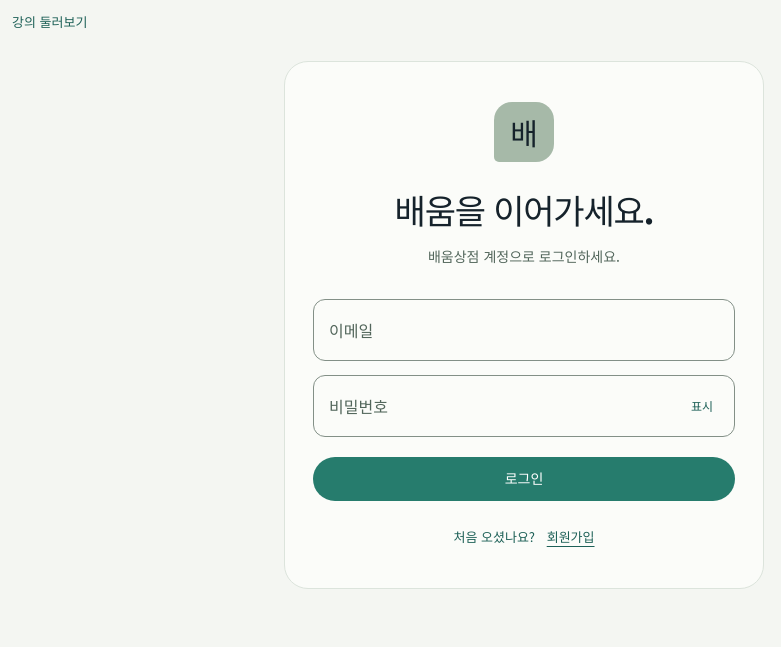
Test: login return destination › shows login errors without navigating and permits retry
Type "reader@example.com" into the field with id "login-email".
click(524, 330); type("reader@example.com")  # box [313, 299, 735, 361]
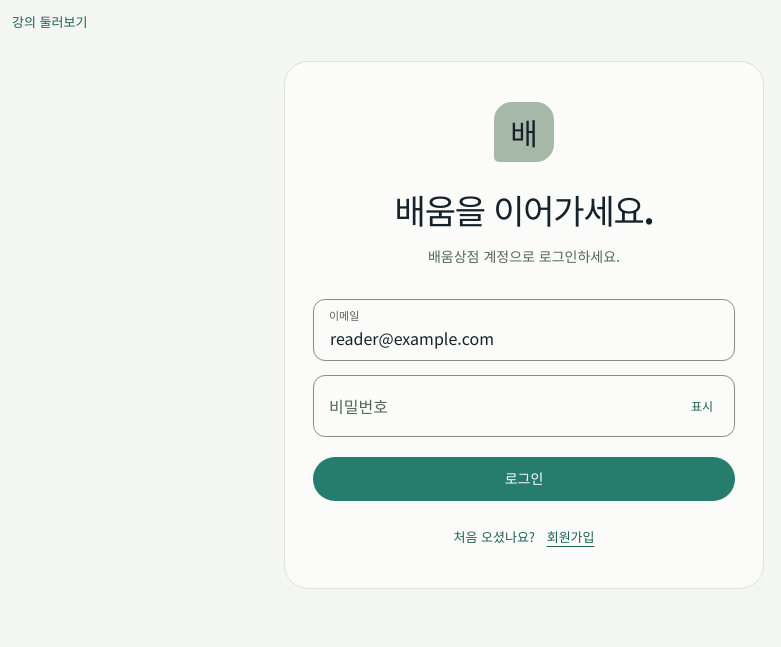
Type "secret" into the password field with id "login-password".
click(524, 406); type("secret")  # box [313, 375, 735, 437]
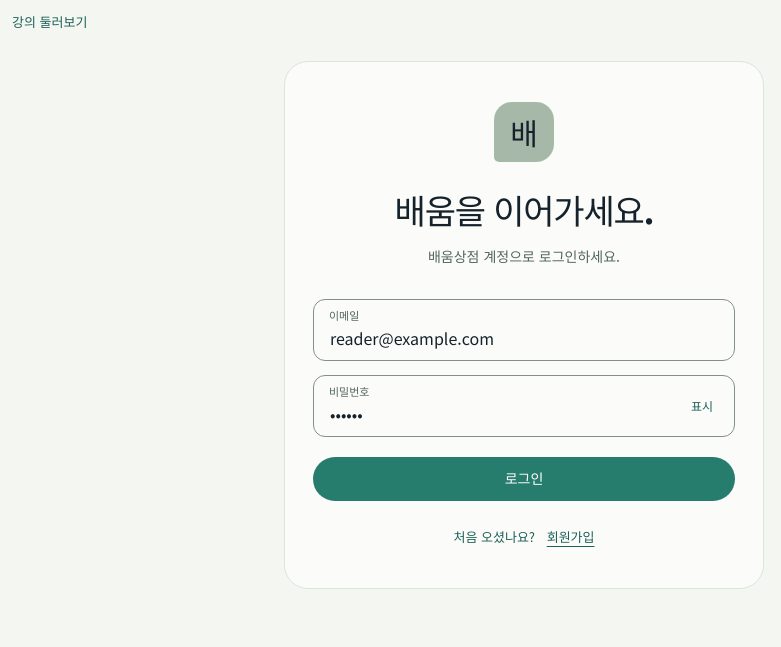
Submit the form, box [313, 299, 735, 501]
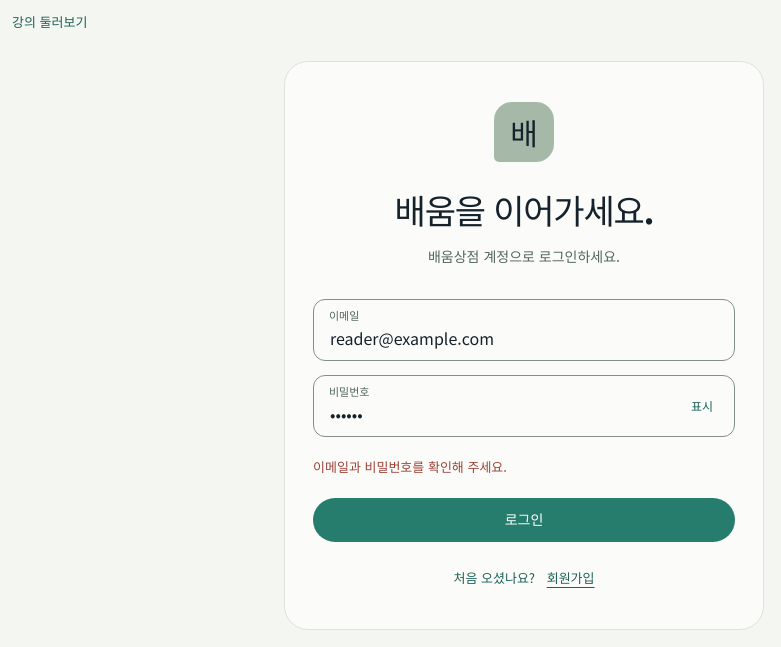
Expected: the submit button is enabled, [313, 498, 735, 542]
Now the message "이메일과 비밀번호를 확인해 주세요." is shown, box [313, 457, 507, 476]
